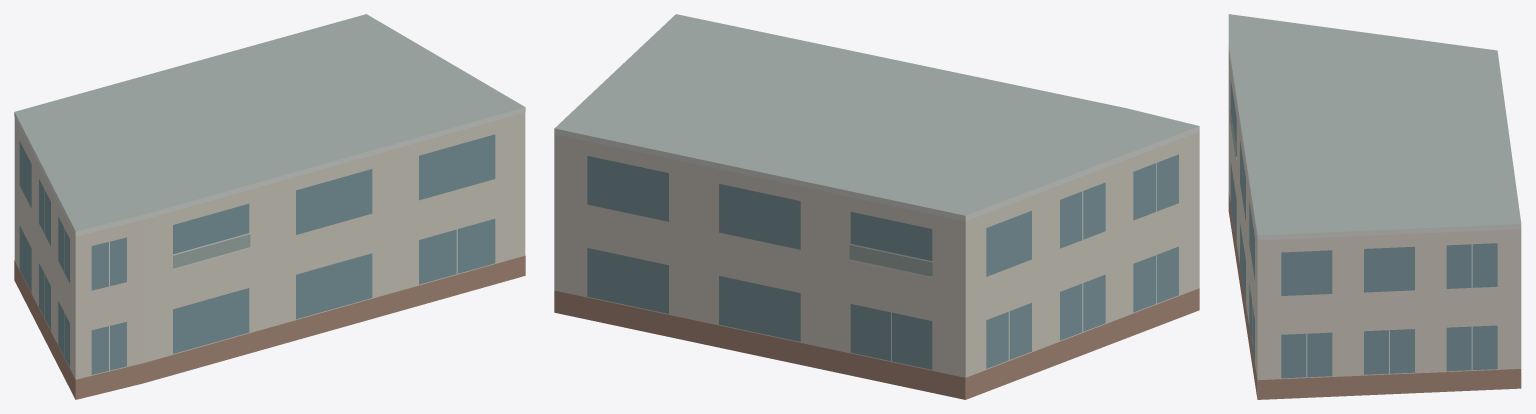
Rendered from survey-upis-32467682.glb.
3 renders of one model, left to right at view 1: azimuth 30°, elevation 25°; view 2: azimuth 150°, elevation 25°; view 3: azimuth 270°, elevation 25°, orthographic. The views are drawn at different scales.
Parts seen in each view (by area): view 1: survey-upis-32467682.tmp; view 2: survey-upis-32467682.tmp; view 3: survey-upis-32467682.tmp.
Boxes of the visible parts, <box> form: survey-upis-32467682.tmp: <box>14,14,525,399</box>; survey-upis-32467682.tmp: <box>554,14,1199,399</box>; survey-upis-32467682.tmp: <box>1228,14,1521,399</box>.
Size of the model in its own units: 22.9 by 7.94 by 12.81.
